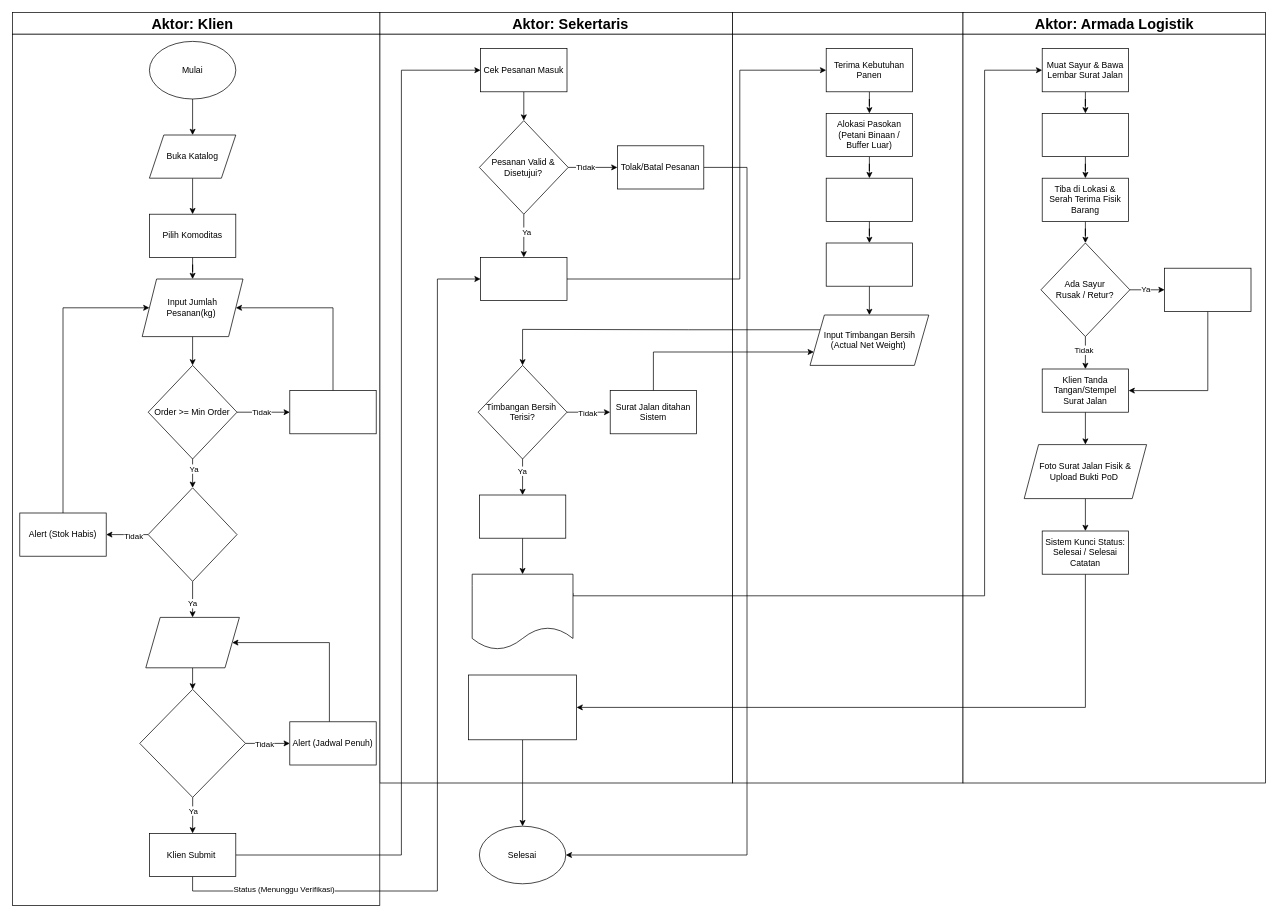
This 1278x918 diagram has some shape labels left out. The centre of each missing label's shape, as x and y in pixels:
"Aktor: Koordinator" goes at [847,23].
"Alert (harus diatas jumlah minimum)" goes at [332,412].
"Catat Jumlah Kg Retur & Alasan Mutu" goes at [1207,289].
"Cetak Surat Jalan Resmi PDF & Tugaskan Supir (Status: Siap Kirim)" goes at [522,611].
"Jadwal Estimasi Pengiriman = Tersedia?" goes at [192,743].
"Panen, Sortir Mutu & Packing di Gudang" goes at [869,199].
"Pilih Jadwal Estimasi Pengiriman" goes at [192,642].
"Proses Penagihan / Faktur (Faktur Tempo TOP / Verifikasi Bayar)" goes at [522,707].
"Sistem Hitung Ulang Total Tagihan (Kuantitas Aktual x Harga)" goes at [522,516].
"Stok >= Order?" goes at [192,534].
"Timbang Berat Bersih" goes at [869,264].
"Update Status: Dalam Pengiriman" goes at [1085,135].
"Verifikasi Pesanan Status(Terverifikasi)" goes at [523,279].
